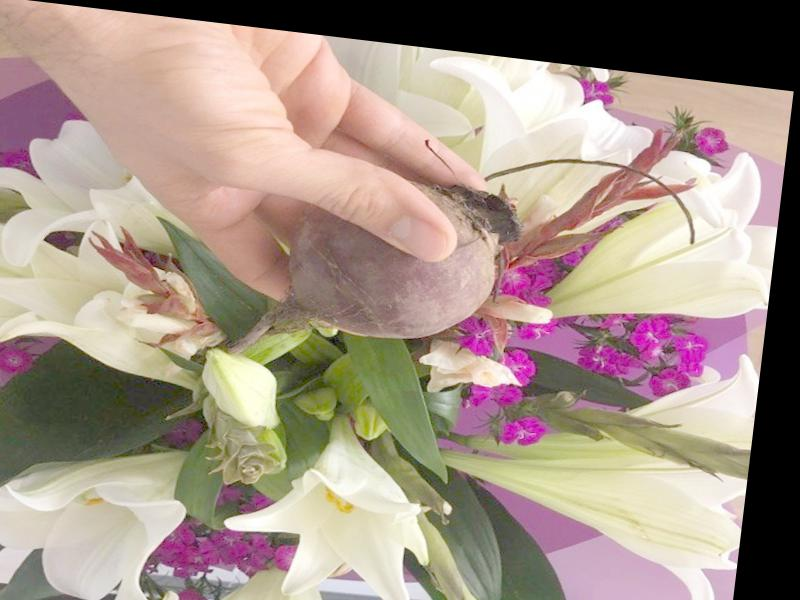Beet: (220, 159, 525, 389)
